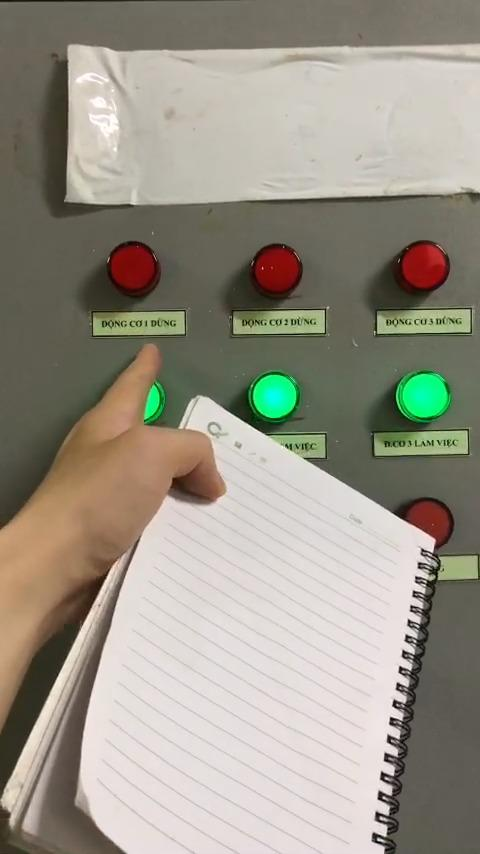led: (97, 236, 159, 299), (245, 243, 306, 304), (389, 369, 453, 424), (393, 234, 451, 291), (246, 371, 298, 421), (404, 497, 455, 540), (129, 376, 168, 420)
